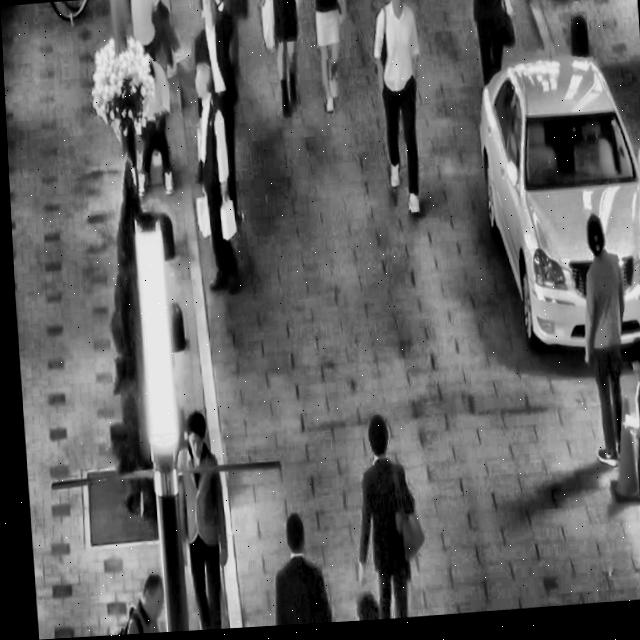light_vehicle: (466, 38, 640, 372)
